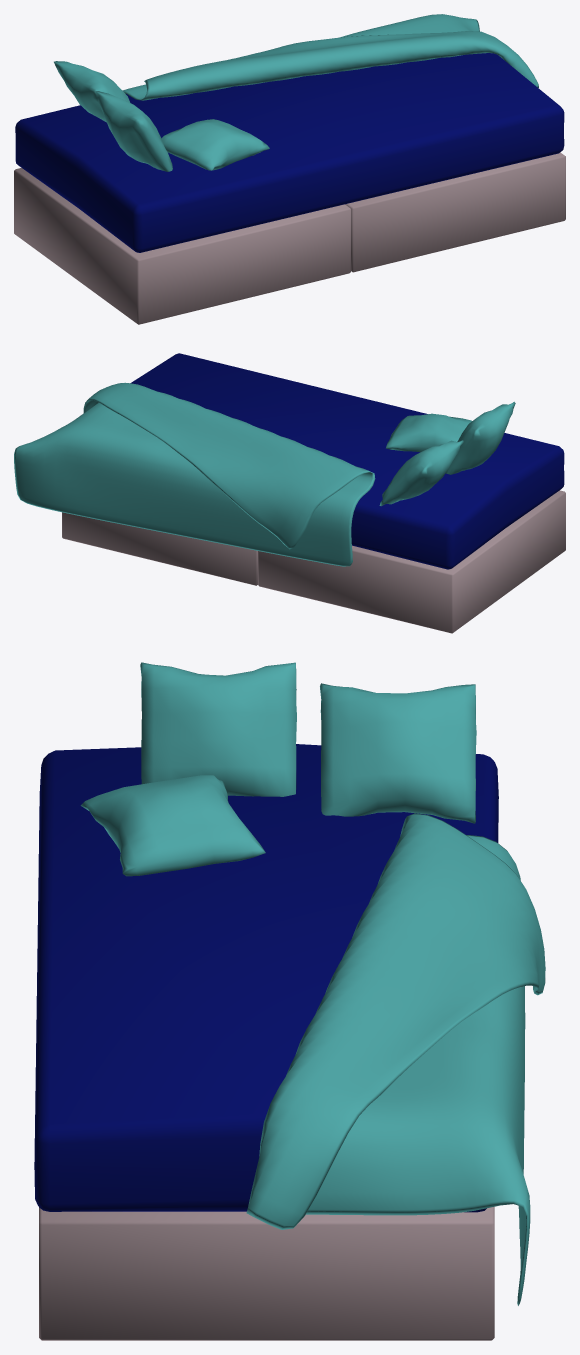
Rendered from Bed2.fbx.
3 renders of one model, top to bottom at view 1: azimuth 30°, elevation 25°; view 2: azimuth 150°, elevation 25°; view 3: azimuth 270°, elevation 25°, orthographic. The views are drawn at different scales.
Visible parts, largest first — view 1: SM_Mattress01, SM_BedFrame01, SM_BedFrame02, SM_Blanket01, SM_Pillow03, SM_Pillow02, SM_Pillow01; view 2: SM_Blanket01, SM_Mattress01, SM_BedFrame01, SM_BedFrame02, SM_Pillow01, SM_Pillow02, SM_Pillow03; view 3: SM_Mattress01, SM_Blanket01, SM_BedFrame02, SM_Pillow01, SM_Pillow02, SM_Pillow03.
Boxes of the visible parts, x1,y1,x2,y2 form: SM_Mattress01: [15, 53, 564, 252]; SM_BedFrame01: [14, 168, 350, 324]; SM_BedFrame02: [345, 152, 565, 272]; SM_Blanket01: [122, 14, 538, 100]; SM_Pillow03: [161, 119, 269, 170]; SM_Pillow02: [95, 91, 172, 171]; SM_Pillow01: [54, 61, 130, 122]; SM_Blanket01: [14, 382, 375, 566]; SM_Mattress01: [130, 353, 564, 569]; SM_BedFrame01: [258, 490, 565, 633]; SM_BedFrame02: [62, 512, 257, 585]; SM_Pillow01: [379, 440, 463, 506]; SM_Pillow02: [445, 401, 515, 474]; SM_Pillow03: [386, 413, 471, 451]; SM_Mattress01: [34, 744, 498, 1212]; SM_Blanket01: [246, 813, 545, 1305]; SM_BedFrame02: [39, 1206, 494, 1340]; SM_Pillow01: [320, 683, 476, 823]; SM_Pillow02: [140, 662, 296, 796]; SM_Pillow03: [80, 775, 265, 876].
Size of the model in its own units: 688 by 247 by 353.
